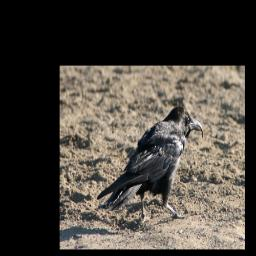Crow: (96, 104, 204, 229)
